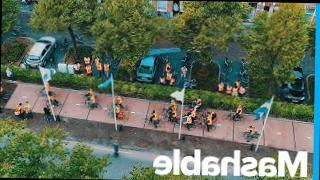road: (87, 144, 158, 179)
